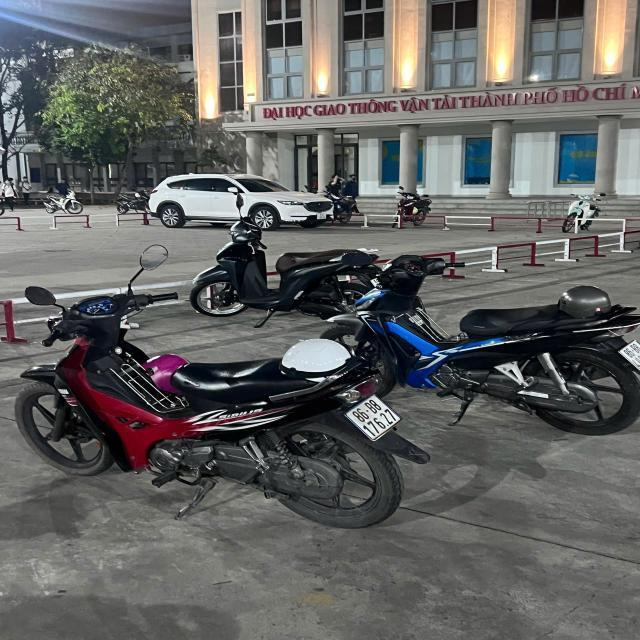car: (137, 168, 343, 232)
motorcycle: (20, 287, 429, 537), (322, 250, 640, 435), (188, 214, 378, 320)
plate: (339, 392, 400, 448)
